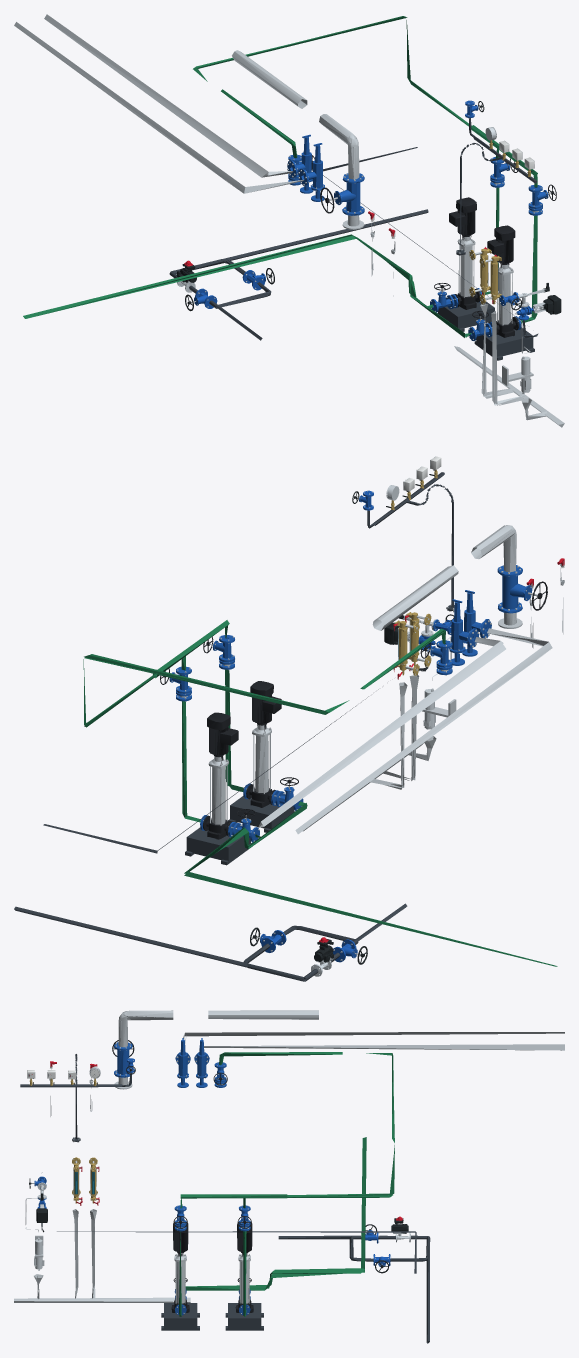
3 views of the same model, one above another, from view 1: azimuth 30°, elevation 25°; view 2: azimuth 150°, elevation 25°; view 3: azimuth 270°, elevation 25° (orthographic). The views are drawn at different scales.
Parts seen in each view (by area): view 1: suction_common, safety_vent_2, safety_vent_1, pump_2, local_open_drains, pump_1, pump_branch_1, pump_branch_2, to_direct, steam_delivery, steam_manual, steam_rise (+6 smaller); view 2: safety_vent_2, pump_2, safety_vent_1, pump_1, pump_branch_2, suction_common, to_direct, pump_branch_1, local_open_drains, steam_delivery, steam_manual, bottom_discharge (+4 smaller); view 3: suction_common, safety_vent_2, local_open_drains, safety_vent_1, pump_branch_2, pump_branch_1, steam_delivery, pump_1, pump_2, to_direct, steam_rise, pressure_header (+4 smaller).
Part boxes in pixels (x1,y1,x2,y2): suction_common: (23,234,464,337); safety_vent_2: (44,14,293,177); safety_vent_1: (14,22,304,193); pump_2: (449,197,480,309); local_open_drains: (454,303,564,427); pump_1: (487,225,518,337); pump_branch_1: (465,173,537,360); pump_branch_2: (426,149,499,331); to_direct: (193,16,471,126); steam_delivery: (232,50,307,108); steam_manual: (320,173,364,215); steam_rise: (319,114,359,179); safety_vent_2: (258,637,505,827); pump_2: (203,712,238,839); safety_vent_1: (295,628,552,834); pump_1: (246,681,281,807); pump_branch_2: (181,656,260,865); suction_common: (184,803,557,966); to_direct: (83,654,349,727); pump_branch_1: (225,625,307,832); local_open_drains: (302,674,436,831); steam_delivery: (372,565,458,630); steam_manual: (497,565,547,613); bottom_discharge: (14,906,305,980); suction_common: (185,1137,366,1290); safety_vent_2: (199,1044,564,1051); local_open_drains: (14,1209,190,1302); safety_vent_1: (183,1032,564,1044); pump_branch_2: (225,1198,263,1330); pump_branch_1: (161,1198,199,1330); steam_delivery: (208,1010,318,1019); pump_1: (171,1221,189,1312); pump_2: (235,1221,253,1312); to_direct: (287,1053,394,1197); steam_rise: (118,1010,173,1047); pressure_header: (20,1054,131,1142).
Size of the model in its own units: 5 by 3.07 by 6.45.
